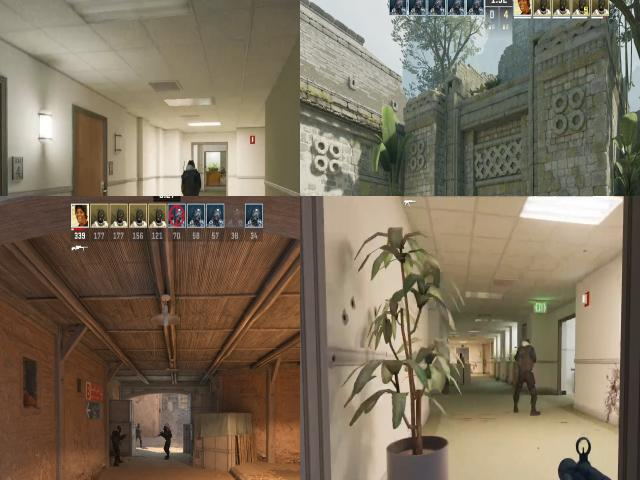CT: (513, 337, 539, 387), (180, 153, 202, 196), (110, 423, 122, 468), (161, 426, 172, 457), (135, 421, 142, 446)
CT-Head: (184, 159, 198, 175), (521, 337, 532, 354), (115, 425, 122, 431), (163, 426, 167, 430), (138, 424, 140, 426)
